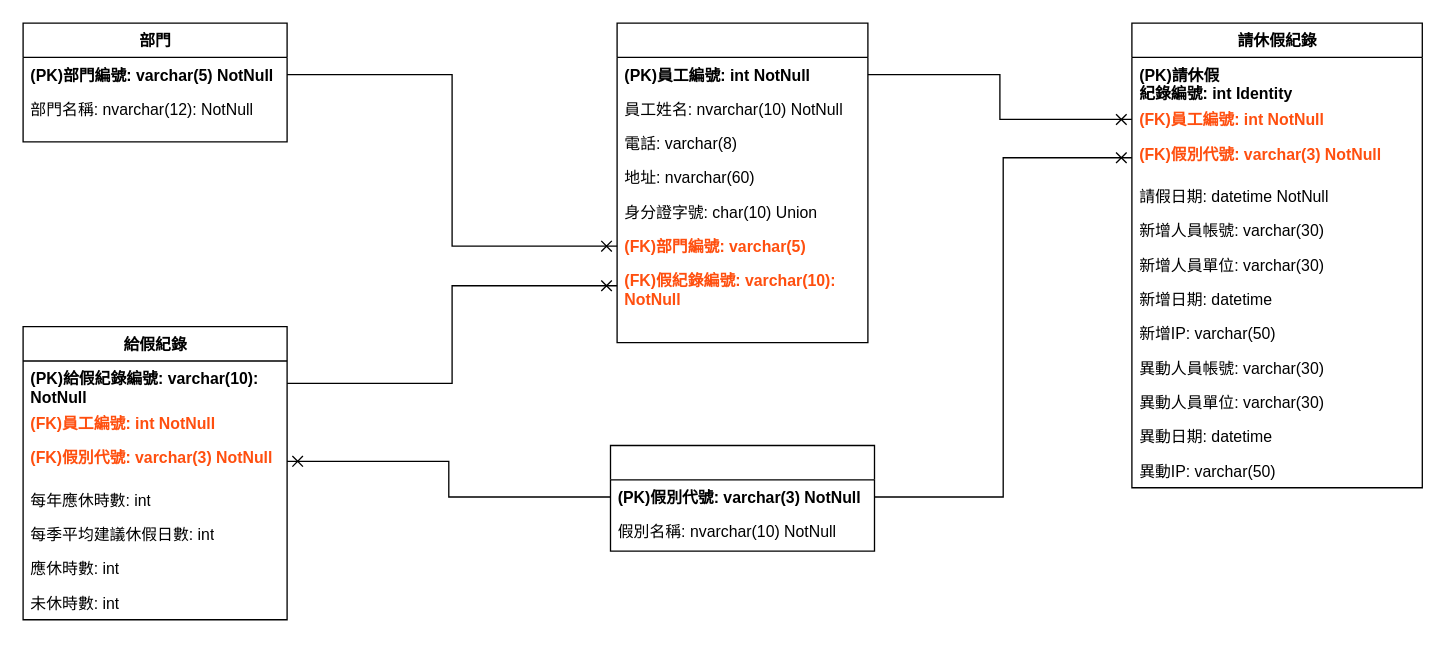
The diagram is 1445 pixels wide and 647 high, and some of its shapes have lost their labels. Here are the shapes that lost their labels. From the top down, the box of each, then its label:
(616, 22, 868, 343): 員工
(609, 444, 874, 551): 假別
